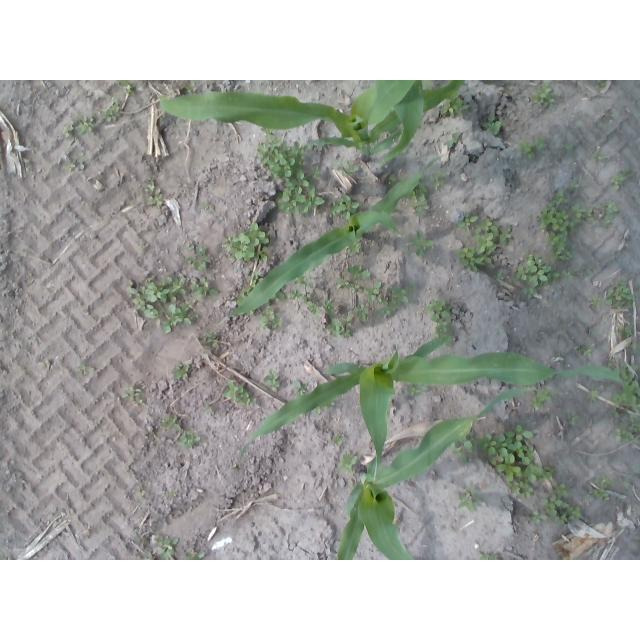Maize: (239, 332, 639, 461), (228, 153, 448, 324), (337, 388, 538, 561), (161, 80, 466, 164)
Weeds: (538, 177, 618, 259), (255, 130, 327, 214), (476, 424, 553, 500), (126, 274, 219, 336), (337, 261, 416, 323), (455, 215, 514, 273), (288, 288, 353, 340), (525, 482, 583, 527), (515, 254, 571, 299), (60, 103, 122, 137), (224, 222, 272, 263), (134, 532, 179, 561), (605, 277, 639, 315), (425, 299, 451, 337), (185, 238, 212, 270), (607, 357, 637, 384), (225, 380, 256, 405), (332, 194, 360, 221), (409, 228, 435, 256), (586, 472, 610, 501), (459, 482, 483, 511), (530, 82, 557, 106), (520, 136, 549, 158), (413, 190, 432, 223), (260, 307, 284, 333), (160, 412, 184, 437), (615, 422, 640, 444), (440, 99, 468, 118), (457, 211, 479, 235), (120, 388, 150, 405), (145, 181, 164, 207), (609, 169, 631, 191), (480, 113, 501, 136), (337, 454, 357, 478), (431, 171, 454, 191), (337, 160, 361, 179), (451, 441, 473, 461), (174, 363, 193, 385), (204, 333, 225, 352), (532, 389, 554, 407), (179, 430, 201, 447), (402, 383, 428, 397), (263, 371, 281, 390), (574, 342, 594, 357), (588, 295, 605, 312), (119, 80, 137, 96), (330, 433, 347, 448), (447, 134, 462, 151), (599, 110, 617, 124), (73, 364, 92, 377), (594, 143, 607, 162), (618, 325, 634, 340), (480, 550, 504, 560), (293, 378, 308, 394), (63, 162, 89, 171), (183, 549, 205, 559), (185, 83, 204, 94), (246, 272, 258, 289), (588, 390, 600, 404), (139, 241, 149, 257), (347, 244, 361, 255), (568, 414, 578, 427), (616, 391, 625, 405), (38, 360, 52, 369), (295, 277, 309, 286), (583, 269, 593, 280), (598, 81, 607, 92), (203, 202, 214, 211), (205, 405, 214, 414), (390, 173, 398, 183), (172, 490, 179, 499), (495, 272, 505, 278), (138, 488, 147, 494), (231, 463, 239, 469), (566, 144, 574, 150)
